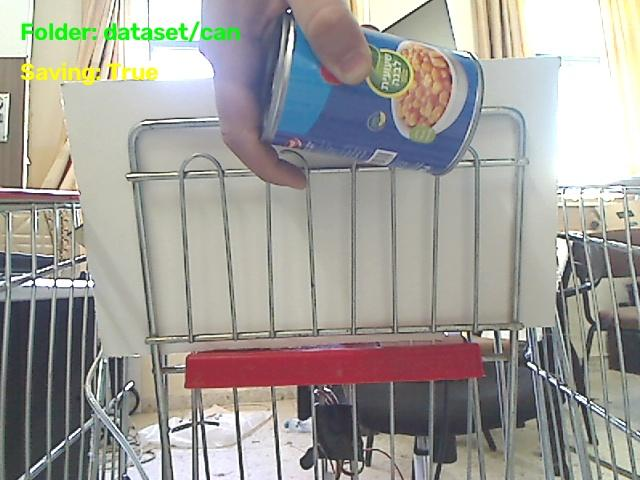can: (262, 14, 483, 174)
